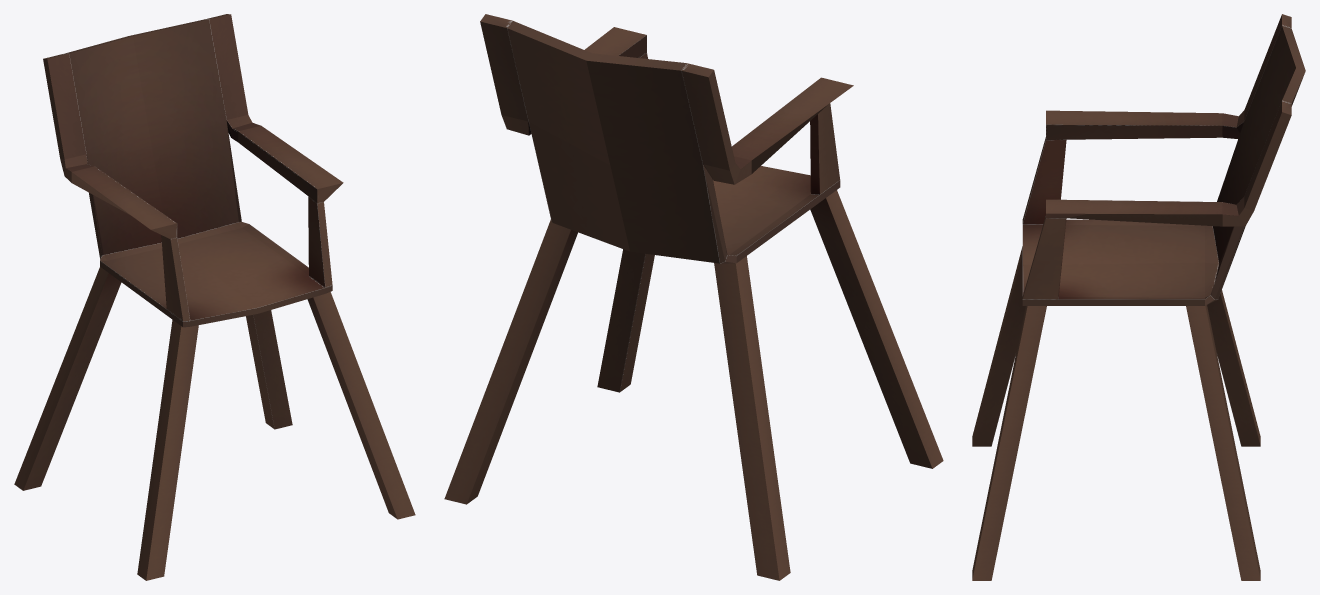
File: Chair.fbx
The picture shows the model from 3 angles, left to right: view 1: azimuth 30°, elevation 25°; view 2: azimuth 150°, elevation 25°; view 3: azimuth 270°, elevation 25°; orthographic projection. The views are drawn at different scales.
Parts seen in each view (by area): view 1: Chair; view 2: Chair; view 3: Chair.
Part boxes in pixels (x1,y1,x2,y2): Chair: [14, 14, 415, 580]; Chair: [444, 14, 943, 580]; Chair: [972, 14, 1305, 580].
Size of the model in its own units: 80.77 by 117 by 79.14.
Materials: 1 (1 with a texture image).
